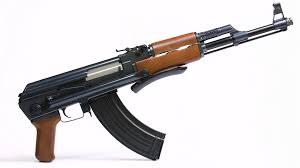gun: (16, 2, 294, 163)
